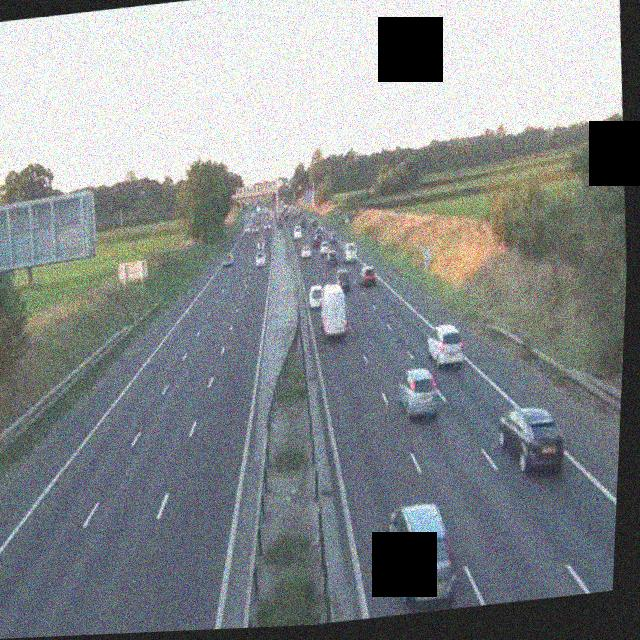car: (382, 500, 459, 607), (494, 403, 568, 477), (397, 364, 442, 419), (317, 279, 350, 339), (425, 321, 466, 368), (308, 283, 327, 311), (359, 263, 379, 287), (335, 268, 352, 291), (344, 243, 359, 263), (324, 247, 337, 265), (254, 250, 266, 268), (221, 250, 233, 266), (300, 243, 312, 258), (292, 226, 303, 241), (316, 238, 327, 253), (256, 239, 266, 255), (243, 222, 252, 234), (263, 220, 272, 231)
